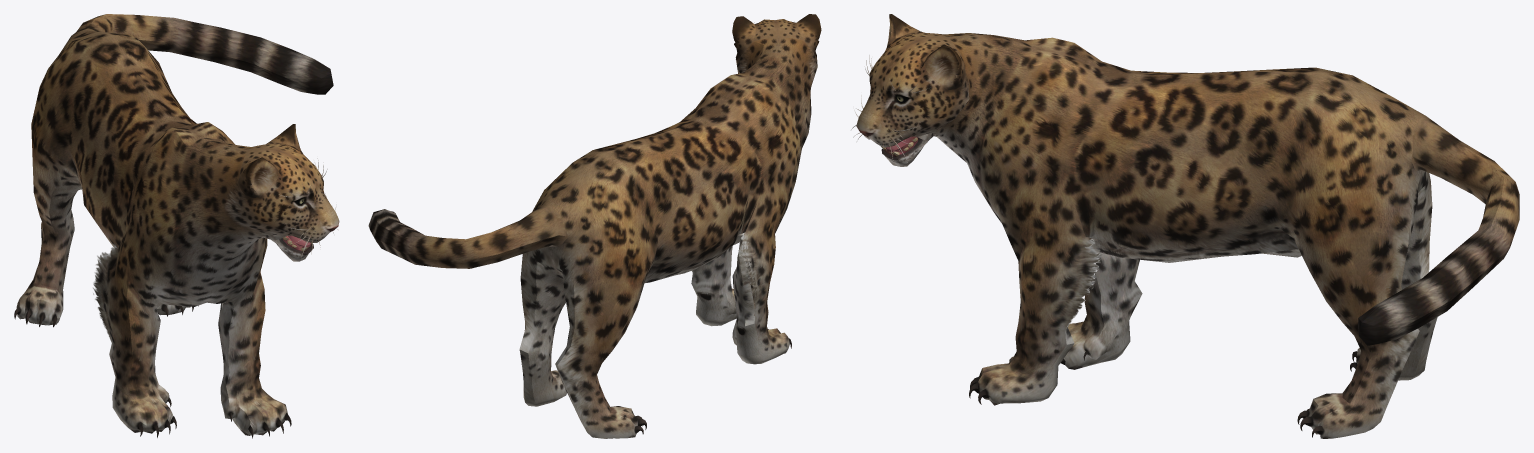
The picture shows the model from 3 angles, left to right: view 1: azimuth 30°, elevation 25°; view 2: azimuth 150°, elevation 25°; view 3: azimuth 270°, elevation 25°; orthographic projection. The views are drawn at different scales.
Visible parts, largest first — view 1: Model001_25_jaguar_0.75_0_0_Model001_Material001_0; view 2: Model001_25_jaguar_0.75_0_0_Model001_Material001_0; view 3: Model001_25_jaguar_0.75_0_0_Model001_Material001_0.
Boxes of the visible parts, x1,y1,x2,y2 form: Model001_25_jaguar_0.75_0_0_Model001_Material001_0: (14, 14, 339, 438); Model001_25_jaguar_0.75_0_0_Model001_Material001_0: (368, 14, 821, 438); Model001_25_jaguar_0.75_0_0_Model001_Material001_0: (851, 14, 1519, 438).
Size of the model in its own units: 104 by 94.63 by 159.
1 material, 1 textured.
